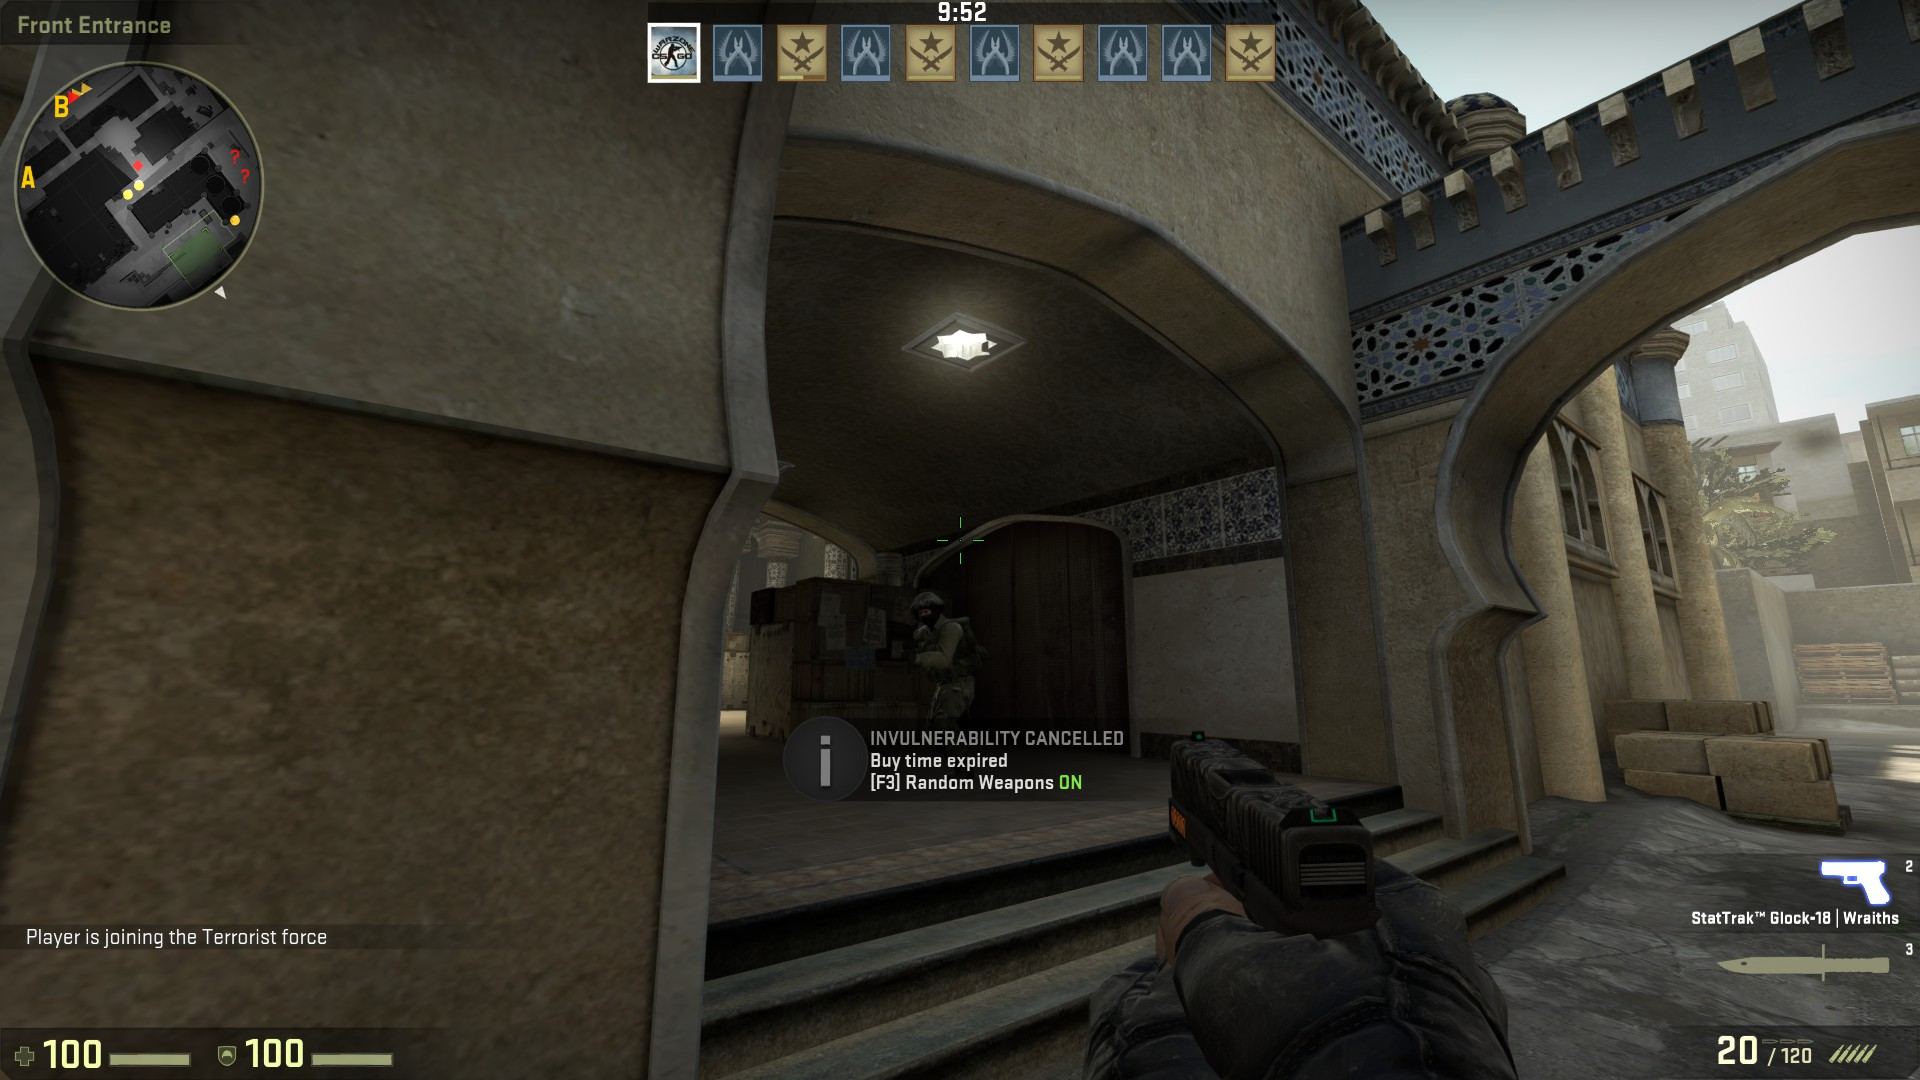c: (901, 585, 986, 756)
ch: (910, 585, 951, 629)
